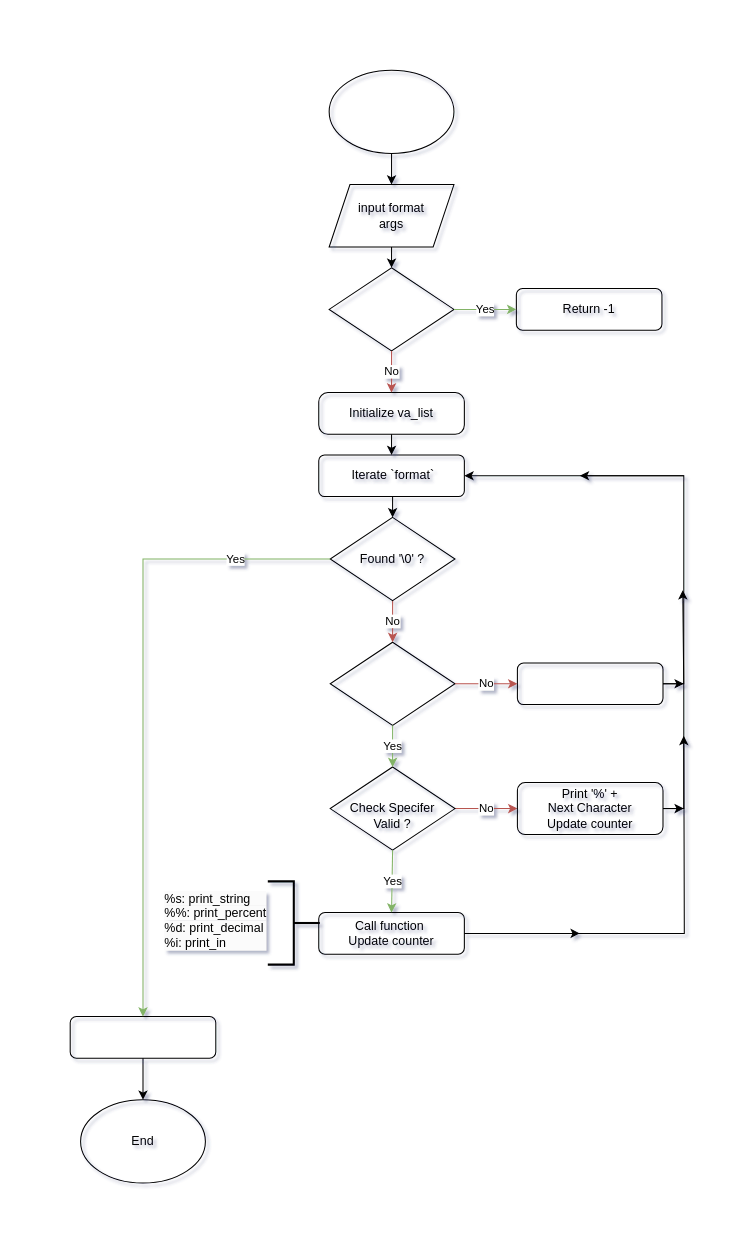
This 749x1248 diagram has some shape labels left out. Each missing label, with the centre of its shape:
"Format Null or Empty" belongs at point 391,309.
"Found ` % `?" belongs at point 392,683.
"Print Character Update counter" belongs at point 589,683.
"Return Total character" belongs at point 142,1037.
"Start" belongs at point 391,111.
